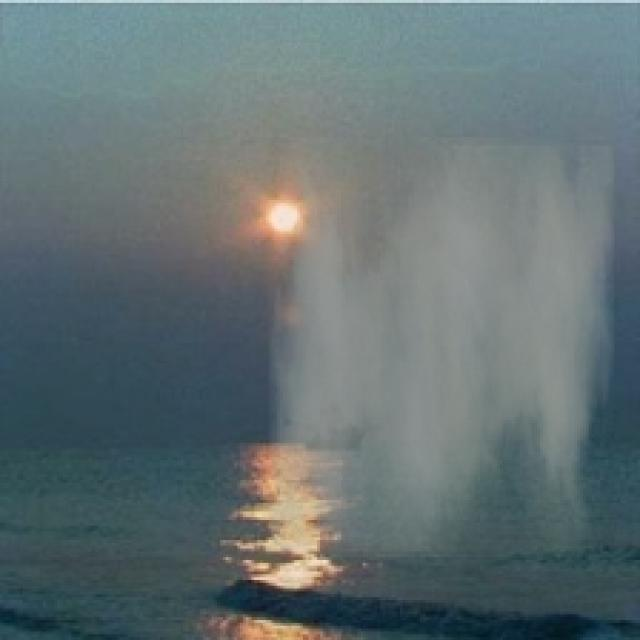Smoke: (268, 137, 614, 557)
